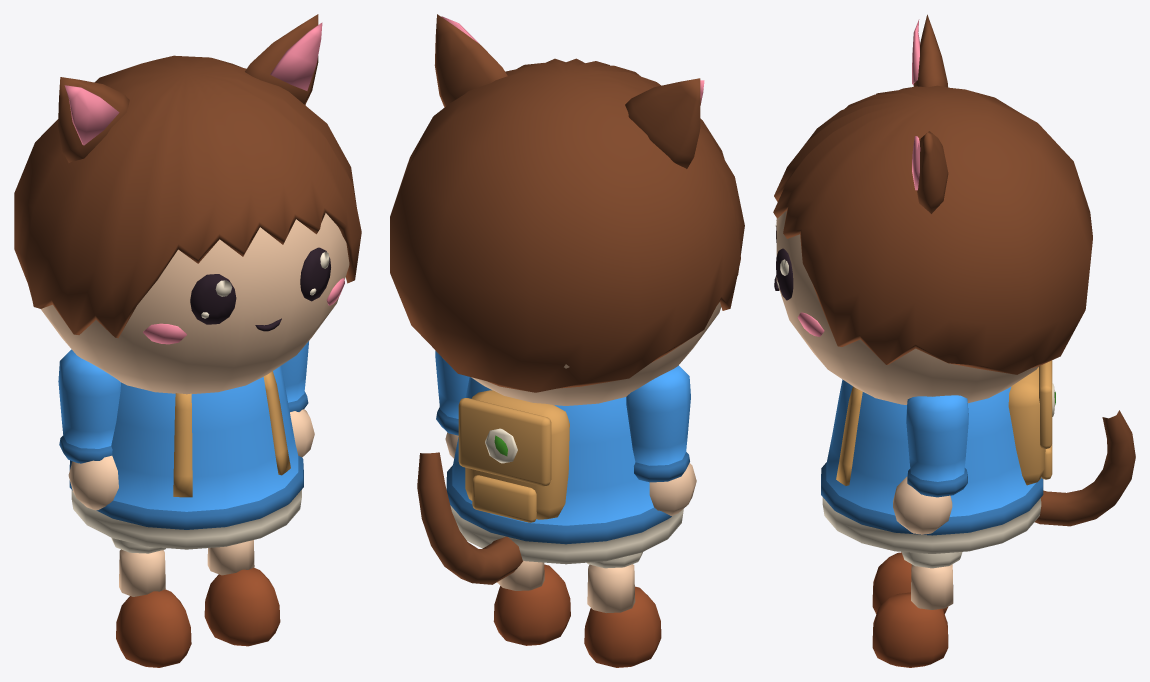
File: hero-catboy.glb
3 renders of one model, left to right at view 1: azimuth 30°, elevation 25°; view 2: azimuth 150°, elevation 25°; view 3: azimuth 270°, elevation 25°, orthographic. The views are drawn at different scales.
Visible parts, largest first — view 1: head, body, head-leaf, arm-left, leg-left, leg-right, arm-right; view 2: head, body, head-leaf, arm-left, leg-left, leg-right, arm-right; view 3: head, body, arm-right, leg-right, head-leaf, leg-left.
Part boxes in pixels (x1,y1,x2,y2): head: (14, 55, 361, 394); body: (69, 366, 303, 549); head-leaf: (58, 14, 322, 162); arm-left: (58, 349, 120, 510); leg-left: (111, 538, 191, 667); leg-right: (204, 540, 280, 646); arm-right: (281, 341, 314, 457); head: (390, 58, 744, 405); body: (417, 377, 683, 584); head-leaf: (434, 14, 704, 168); arm-left: (626, 365, 696, 515); leg-left: (584, 552, 661, 667); leg-right: (493, 560, 570, 645); arm-right: (435, 351, 469, 458); head: (773, 85, 1092, 404); body: (821, 360, 1135, 553); arm-right: (893, 395, 968, 534); leg-right: (872, 552, 962, 667); head-leaf: (912, 14, 948, 213); leg-left: (872, 552, 947, 613).
Bounding box in the file's own units: 1.23 × 2.31 × 1.34.
